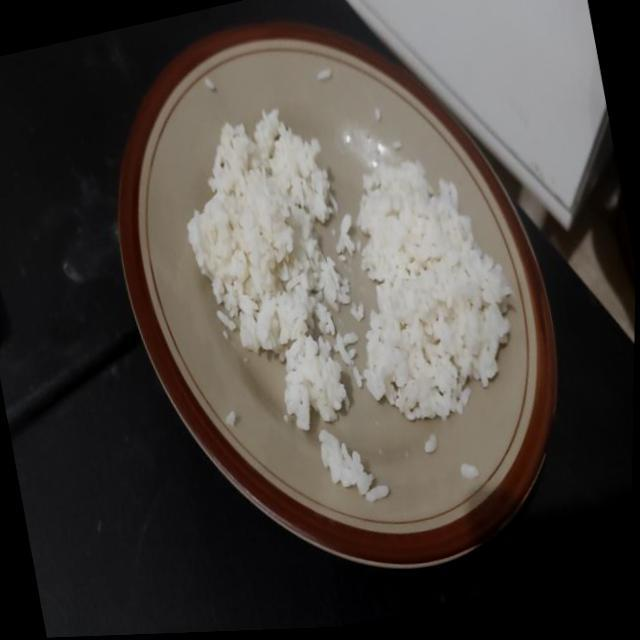nasi_putih: (187, 109, 362, 430), (356, 158, 514, 420)
